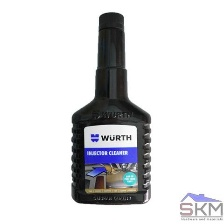cleaning_solution: (66, 7, 155, 207)
